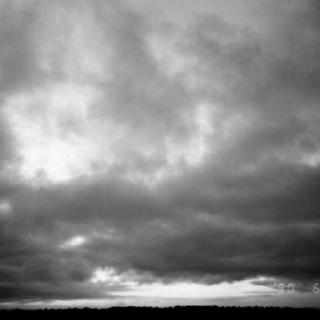Stratus: (0, 1, 320, 290)
